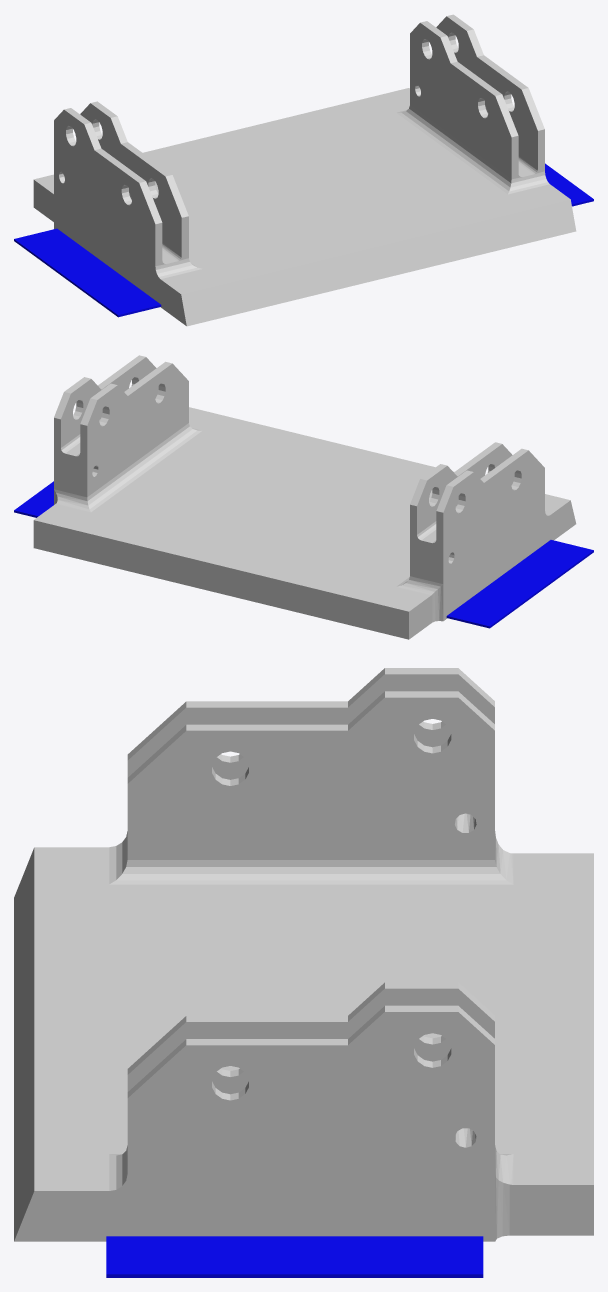
File: demo.glb
3 views of the same model, one above another, from view 1: azimuth 30°, elevation 25°; view 2: azimuth 150°, elevation 25°; view 3: azimuth 270°, elevation 25° (orthographic). The views are drawn at different scales.
Parts seen in each view (by area): view 1: SA30053 3D MODEL_Casting, all_gate (5); view 2: SA30053 3D MODEL_Casting, all_gate (5); view 3: SA30053 3D MODEL_Casting, all_gate (5).
Boxes of the visible parts, x1,y1,x2,y2 form: SA30053 3D MODEL_Casting: [33, 14, 576, 326]; all_gate (5): [14, 163, 593, 317]; SA30053 3D MODEL_Casting: [33, 355, 576, 639]; all_gate (5): [14, 481, 593, 628]; SA30053 3D MODEL_Casting: [14, 668, 593, 1241]; all_gate (5): [106, 1236, 483, 1277].
Bounding box in the file's own units: 13.52 × 3.45 × 7.89.
